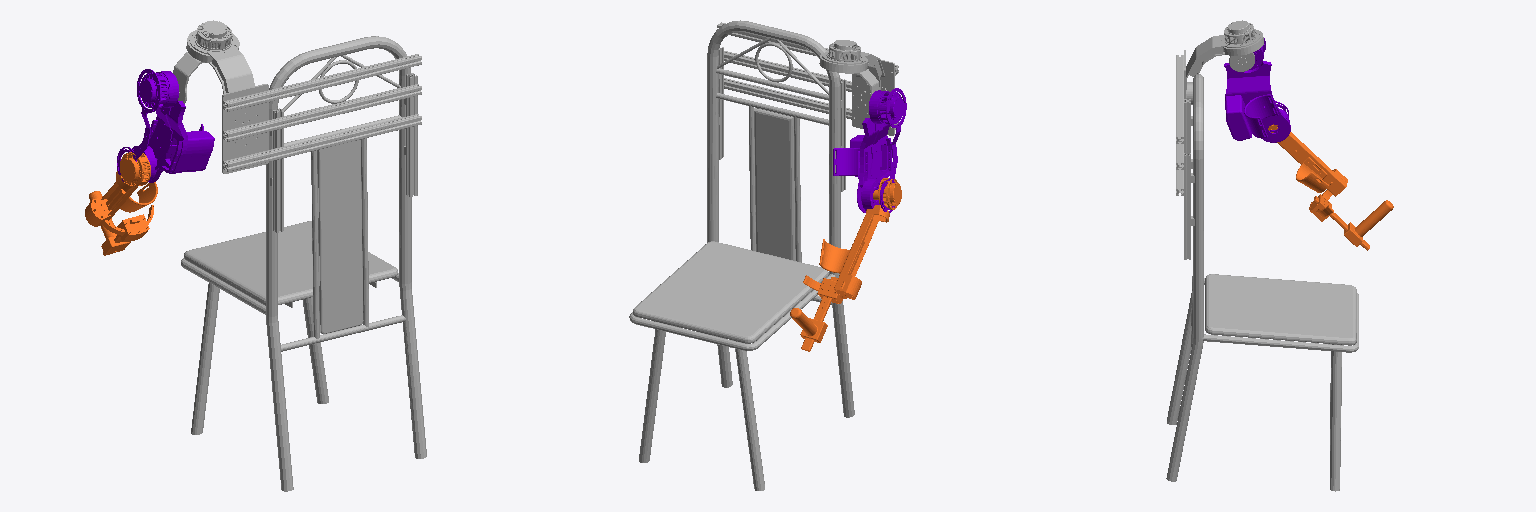
The robot description file, URDF, robot "gim_arm":
<?xml version="1.0"?>
<robot name="gim_arm">

  <!-- Dummy root link to satisfy KDL (added) -->
  <link name="base_footprint"/>

  <!-- Tạo mặt đất ảo -->
  <link name="world"/>

  <!-- Bắt vít gốc của cánh tay xuống mặt đất ảo -->
  <joint name="world_fixed" type="fixed">
    <parent link="world"/>
    <child link="base_footprint"/>
    <origin xyz="0 0 0" rpy="0 0 0"/>
  </joint>

  <!-- Fixed joint from dummy root to base_link (added) -->
  <joint name="base_footprint_to_base_link" type="fixed">
    <parent link="base_footprint"/>
    <child link="base_link"/>
    <origin xyz="0 0 0" rpy="0 0 0"/>
  </joint>

  <link name="base_link">
    <inertial>
      <origin xyz="0.27344094303007 0.27938715952061 0.510149299908653" rpy="0 0 0" />
      <mass value="6.66855777151619" />
      <inertia
        ixx="0.292932757999248"
        ixy="2.42532565985983E-05"
        ixz="1.4908094022849E-05"
        iyy="0.157532051318604"
        iyz="-0.0223597784843357"
        izz="0.31549969202859" />
    </inertial>
    <visual>
      <origin xyz="0 0 0" rpy="0 0 0" />
      <geometry>
        <mesh filename="package://gim_arm_description/meshes/base_link.STL" />
      </geometry>
      <material name="base_link_color">
        <color rgba="0.752941176470588 0.752941176470588 0.752941176470588 1" />
      </material>
    </visual>
    <collision>
      <origin xyz="0 0 0" rpy="0 0 0" />
      <geometry>
        <mesh filename="package://gim_arm_description/meshes/base_link.STL" />
      </geometry>
    </collision>
  </link>

  <link name="shoulder_link">
    <inertial>
      <origin xyz="-0.166448794327975 0.0056887985806402 -0.0172848581490532" rpy="0 0 0" />
      <mass value="0.190732966677201" />
      <inertia
        ixx="0.000205948851297408"
        ixy="-2.38990127172075E-07"
        ixz="7.27163071554151E-05"
        iyy="0.000237074859368272"
        iyz="-8.24496296171646E-07"
        izz="0.000153162765676654" />
    </inertial>
    <visual>
      <origin xyz="0 0 0" rpy="0 0 0" />
      <geometry>
        <mesh filename="package://gim_arm_description/meshes/shoulder_link.STL" />
      </geometry>
      <material name="shoulder_link_color">
        <color rgba="0.752941176470588 0.752941176470588 0.752941176470588 1" />
      </material>
    </visual>
    <collision>
      <origin xyz="0 0 0" rpy="0 0 0" />
      <geometry>
        <mesh filename="package://gim_arm_description/meshes/shoulder_link.STL" />
      </geometry>
    </collision>
  </link>

  <!-- type đổi continuous -> revolute (bản export mặc định continuous, không giới
       hạn góc; khớp thật của bạn có giới hạn -> phải revolute mới đảm bảo
       lower/upper được các tool tôn trọng). axis lệch trục sạch (không phải
       "1 0 0"), nên xác nhận lại với CAD xem đây là lệch thật hay nhiễu mate. -->
  <joint name="base_joint" type="revolute">
    <origin xyz="0.031381 -0.48621 0.64846" rpy="1.4637 1.364 1.4753" />
        <!-- <origin xyz="0.031381 -0.48621 0.64846" rpy="1.4637 1.364/1.744 1.4753" /> -->
    <parent link="base_link" />
    <child link="shoulder_link" />
    <axis xyz="0.99932 -0.031099 -0.019999" />
    <limit lower="-0.7121" upper="1.0226" effort="5" velocity="15.708" />
  </joint>

  <link name="upper_arm_link">
    <inertial>
      <origin xyz="-0.020736655172626 0.102615712569984 -0.0918424005027231" rpy="0 0 0" />
      <mass value="1.15563310050408" />
      <inertia
        ixx="0.0046453378861501"
        ixy="-0.000106201197109939"
        ixz="-0.000256625754245197"
        iyy="0.00528562874184763"
        iyz="-0.00041294658184148"
        izz="0.0010644214679654" />
    </inertial>
    <visual>
      <origin xyz="0 0 0" rpy="0 0 0" />
      <geometry>
        <mesh filename="package://gim_arm_description/meshes/upper_arm_link.STL" />
      </geometry>
      <material name="upper_arm_link_color">
        <color rgba="0.545098039215686 0 0.870588235294118 1" />
      </material>
    </visual>
    <collision>
      <origin xyz="0 0 0" rpy="0 0 0" />
      <geometry>
        <mesh filename="package://gim_arm_description/meshes/upper_arm_link.STL" />
      </geometry>
    </collision>
  </link>

  <joint name="shoulder_joint" type="revolute">
    <origin xyz="-0.049966 0.001555 0.00099995" rpy="-1.3842 -0.058173 1.7475" />
    <parent link="shoulder_link" />
    <child link="upper_arm_link" />
    <axis xyz="0 -1 0" />
    <limit lower="-0.2366" upper="1.3435" effort="40" velocity="1.963" />
  </joint>

  <link name="lower_arm_link">
    <inertial>
      <origin xyz="0.185270162663334 0.00970989472364725 0.0463325988746627" rpy="0 0 0" />
      <mass value="0.846776609767109" />
      <inertia
        ixx="0.000639693628361318"
        ixy="2.29941438911678E-05"
        ixz="0.000253970645035867"
        iyy="0.00160796485183614"
        iyz="1.83629192835509E-05"
        izz="0.00182026575035514" />
    </inertial>
    <visual>
      <origin xyz="0 0 0" rpy="0 0 0" />
      <geometry>
        <mesh filename="package://gim_arm_description/meshes/lower_arm_link.STL" />
      </geometry>
      <material name="lower_arm_link_color">
        <color rgba="1 0.509803921568627 0.196078431372549 1" />
      </material>
    </visual>
    <collision>
      <origin xyz="0 0 0" rpy="0 0 0" />
      <geometry>
        <mesh filename="package://gim_arm_description/meshes/lower_arm_link.STL" />
      </geometry>
    </collision>
  </link>

  <joint name="elbow_joint" type="revolute">
    <origin xyz="-0.014232 0 -0.21358" rpy="-1.5708 1.1931 0" />
        <!-- <origin xyz="-0.014232 0 -0.21358" rpy="-1.5708 1.1931 0" /> -->
    <parent link="upper_arm_link" />
    <child link="lower_arm_link" />
    <axis xyz="0 0 -1" />
    <limit lower="-0.2336" upper="1.7762" effort="5" velocity="15.708" />
  </joint>

<!-- param cho node_id + CAN interface + state velocity + gear_ratio + invert_direction -->
<ros2_control name="GimArmSystem" type="system">
  <hardware>
    <plugin>gim_arm_hardware/GimArmSystemHardware</plugin>
    <param name="can_interface">can0</param>
  </hardware>
  <joint name="base_joint">
    <command_interface name="position"/>
    <state_interface name="position"/>
    <state_interface name="velocity"/>
    <param name="can_node_id">0</param>
  </joint>
  <joint name="shoulder_joint">
    <command_interface name="position"/>
    <state_interface name="position"/>
    <state_interface name="velocity"/>
    <param name="can_node_id">1</param>
    <param name="gear_ratio">64.0</param>
  </joint>
  <joint name="elbow_joint">
    <command_interface name="position"/>
    <state_interface name="position"/>
    <state_interface name="velocity"/>
    <param name="can_node_id">2</param>
    <param name="invert_direction">true</param>
  </joint>
</ros2_control>

</robot>

--- Render facts (derived) ---
Views: 3 orthographic renders of the robot side by side, from view 1: azimuth 30°, elevation 25°; view 2: azimuth 150°, elevation 25°; view 3: azimuth 270°, elevation 25°.
Robot: gim_arm — 6 links, 5 joints (3 revolute, 2 fixed); root link world; default pose: every joint at zero.
Visible links, largest first — view 1: base_link, upper_arm_link, lower_arm_link, shoulder_link; view 2: base_link, upper_arm_link, lower_arm_link; view 3: base_link, upper_arm_link, lower_arm_link.
Link boxes in pixels (box(x1,y1,x2,y2)): base_link: box(181, 20, 426, 491); upper_arm_link: box(117, 69, 214, 182); lower_arm_link: box(85, 152, 157, 255); shoulder_link: box(173, 52, 204, 103); base_link: box(629, 20, 898, 490); upper_arm_link: box(833, 88, 906, 212); lower_arm_link: box(790, 178, 901, 351); base_link: box(1166, 20, 1358, 491); upper_arm_link: box(1224, 38, 1290, 142); lower_arm_link: box(1268, 124, 1393, 250).
Size in the robot's own frame: 0.6498 by 0.5962 by 1.15 metres.
Meshes: 4 distinct files referenced, 4 mesh visuals loaded (4 binary STL).
